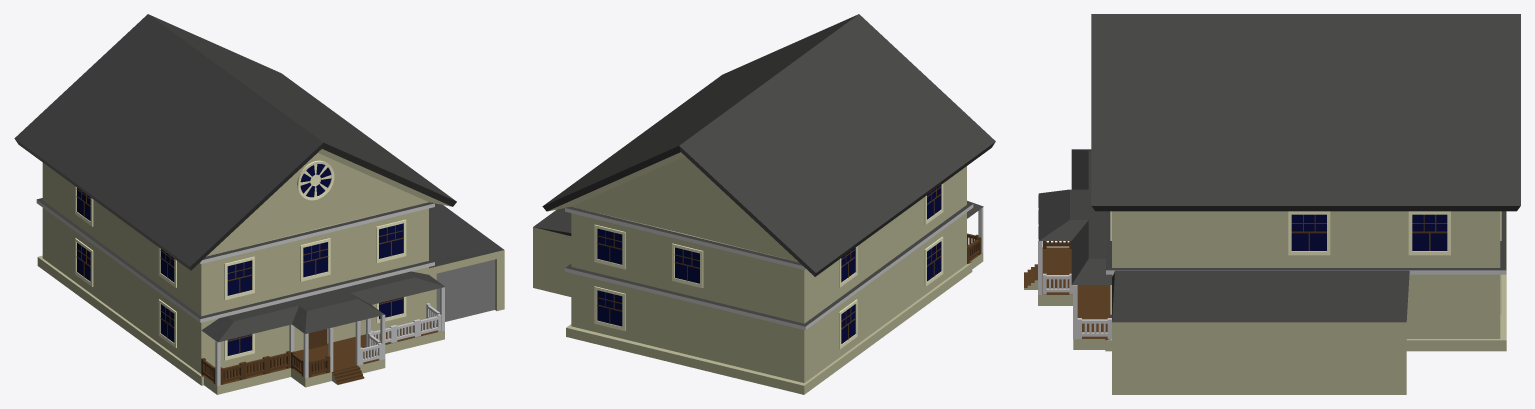
File: FarmHouse.fbx
The picture shows the model from 3 angles, left to right: view 1: azimuth 30°, elevation 25°; view 2: azimuth 150°, elevation 25°; view 3: azimuth 270°, elevation 25°; orthographic projection. The views are drawn at different scales.
Parts seen in each view (by area): view 1: Plane.001; view 2: Plane.001; view 3: Plane.001.
Boxes of the visible parts, left/top/right/bottom form: Plane.001: left=14, top=14, right=504, bottom=394; Plane.001: left=533, top=14, right=995, bottom=394; Plane.001: left=1024, top=14, right=1520, bottom=394.
Size of the model in its own units: 7550 by 4897 by 8228.
